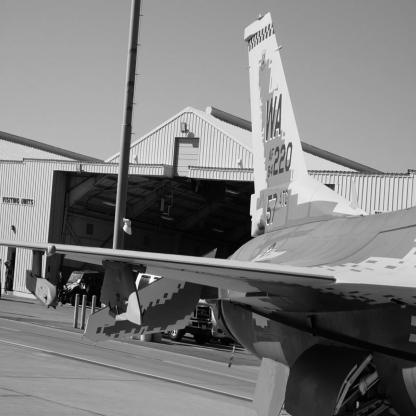F16: (1, 13, 416, 416)
